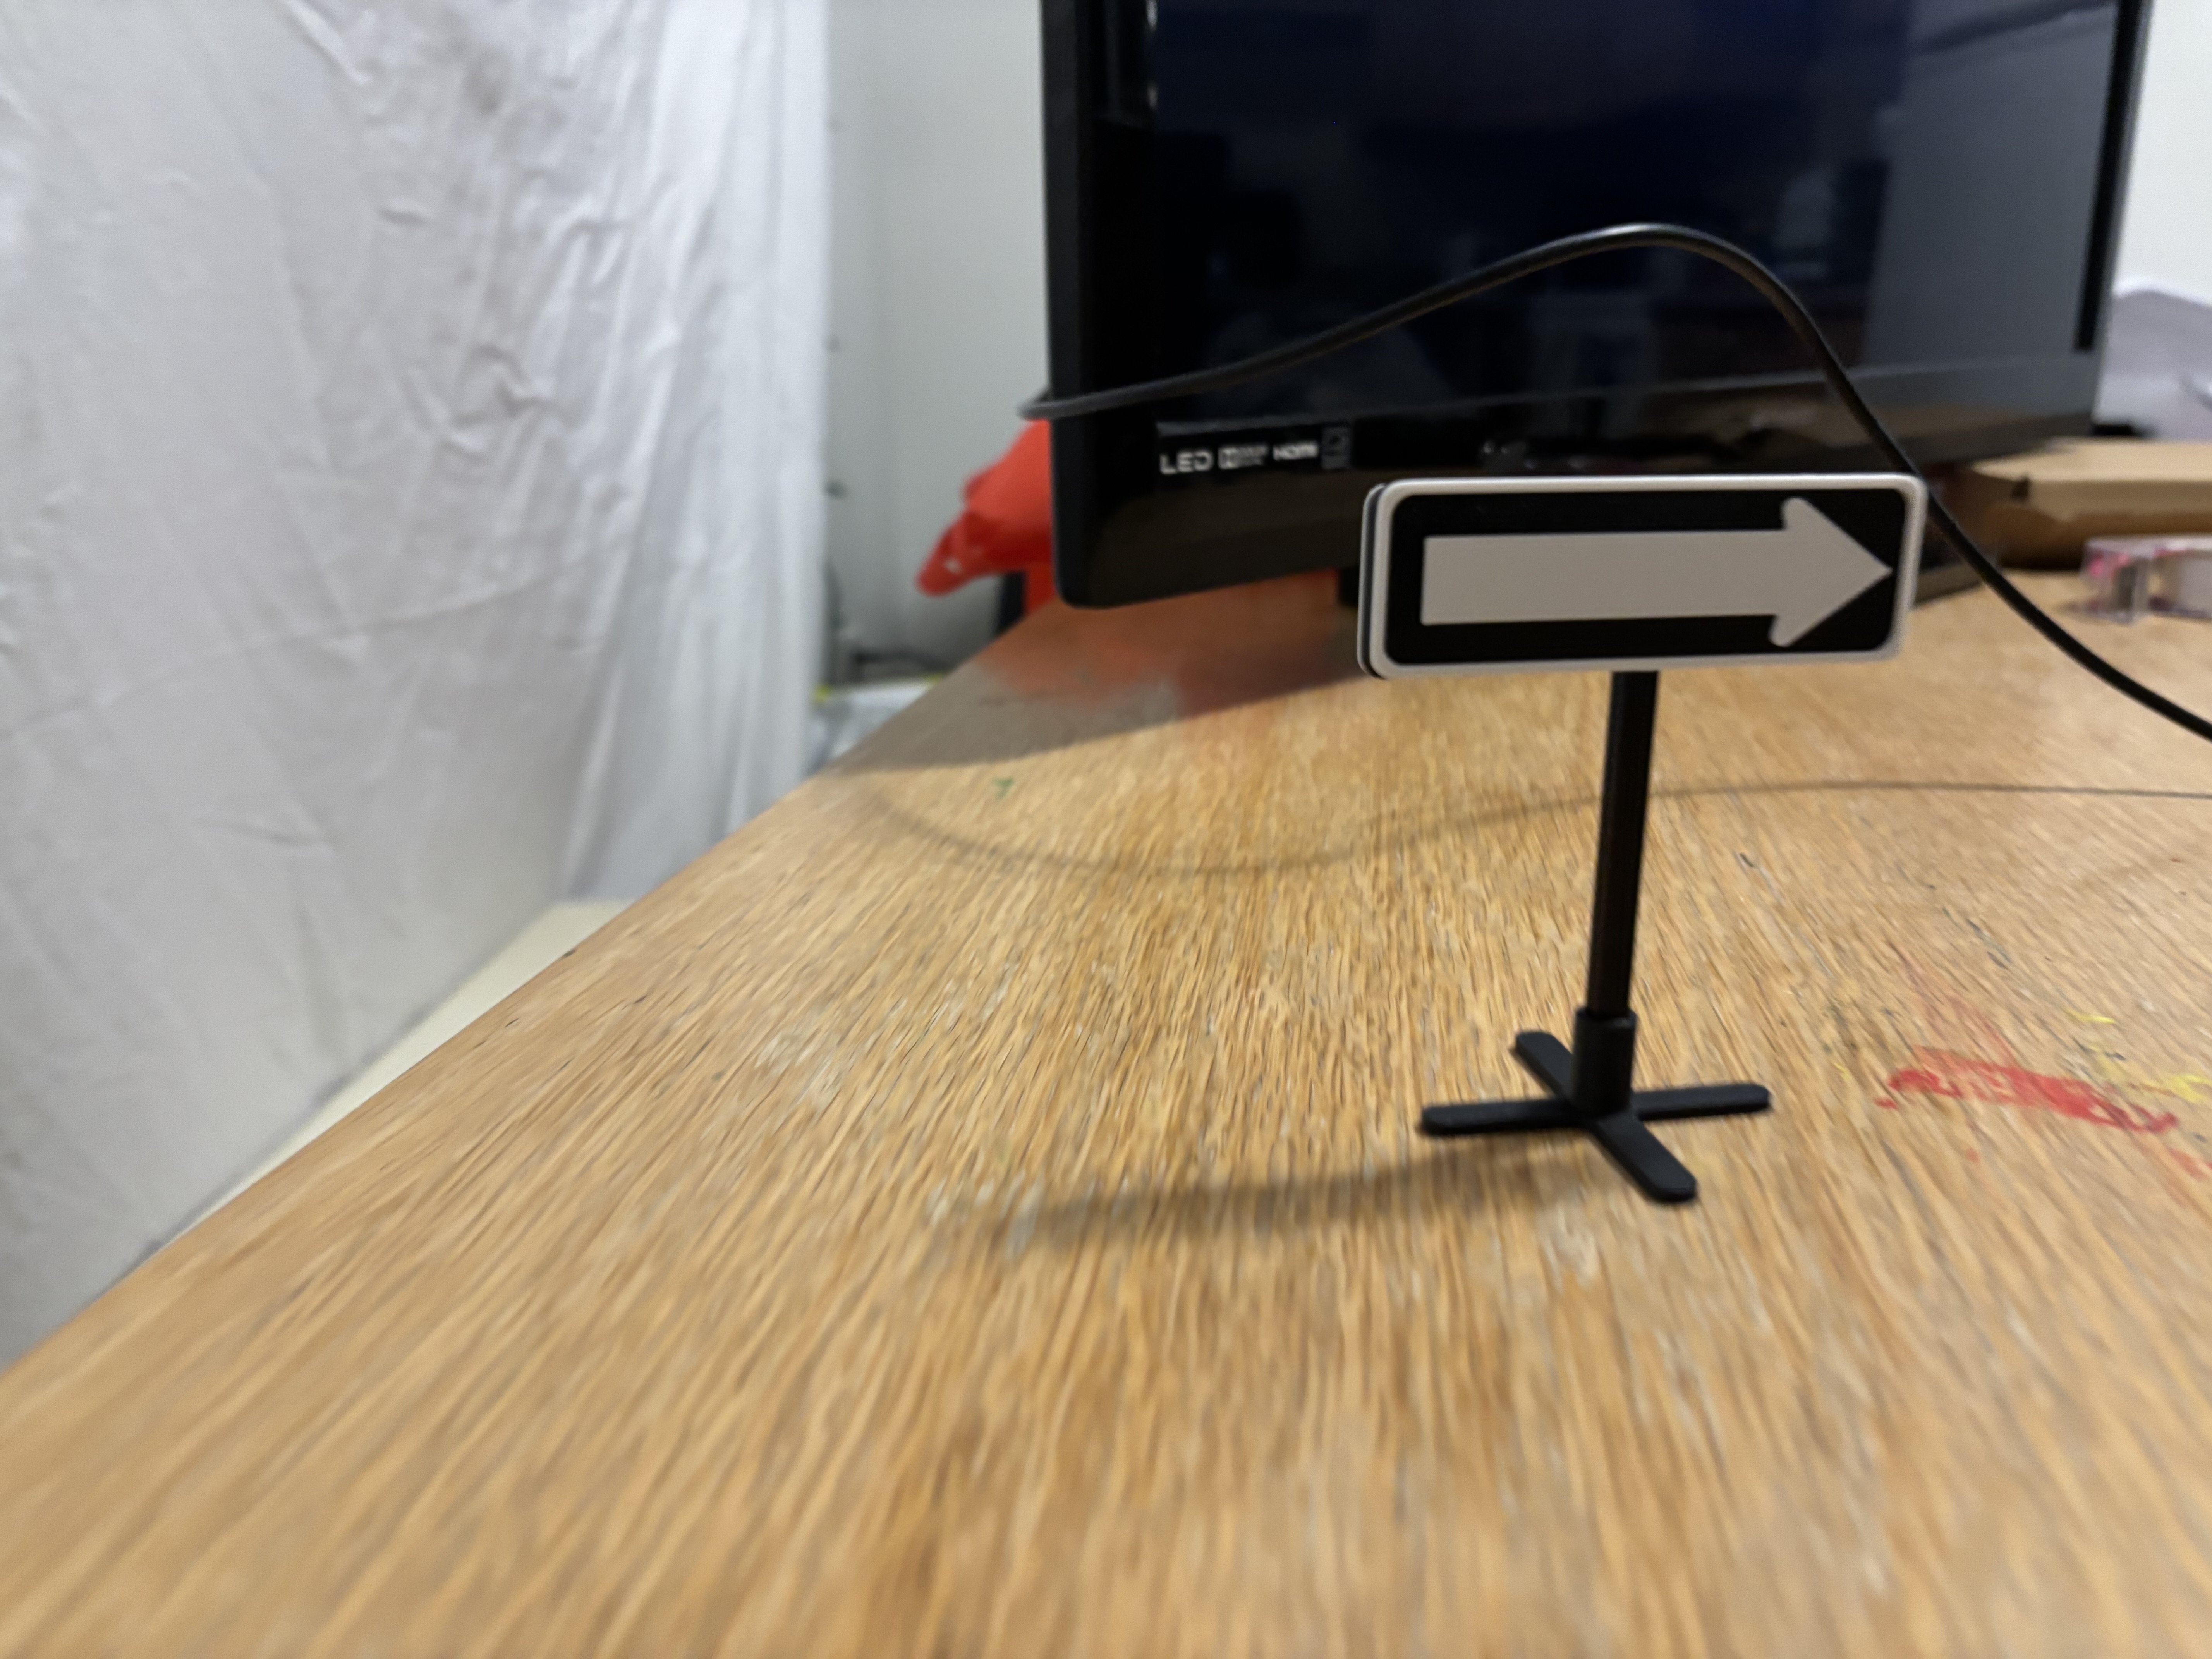sign_oneway_right: (1366, 457, 1914, 662)
